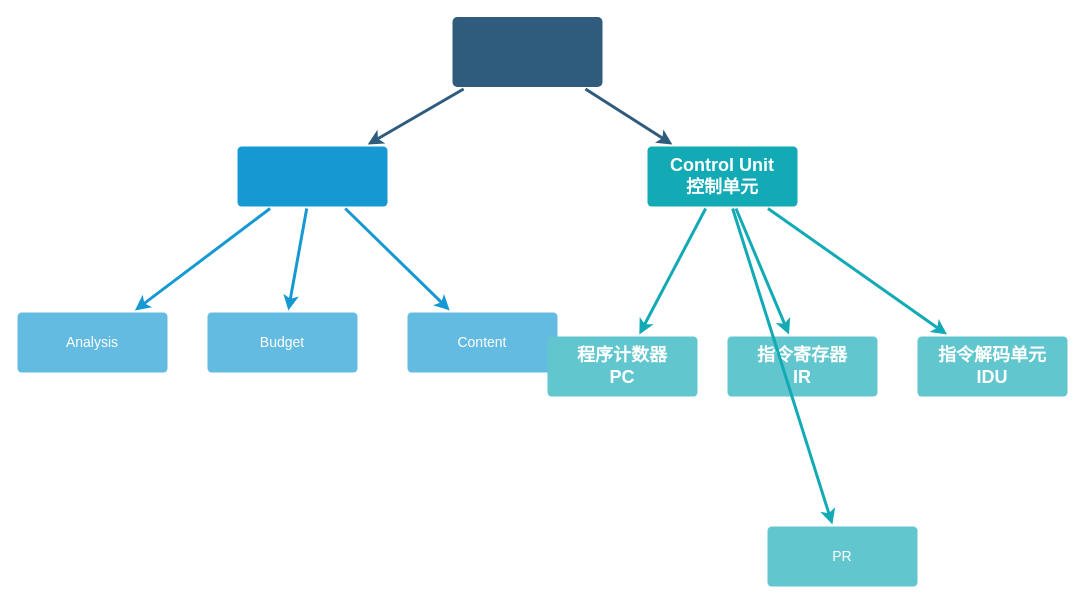
The diagram is 1084 pixels wide and 604 high, and some of its shapes have lost their labels. Each missing label, with the centre of its shape:
"CPU" goes at [527,51].
"Data Path 数据路径" goes at [312,176].
